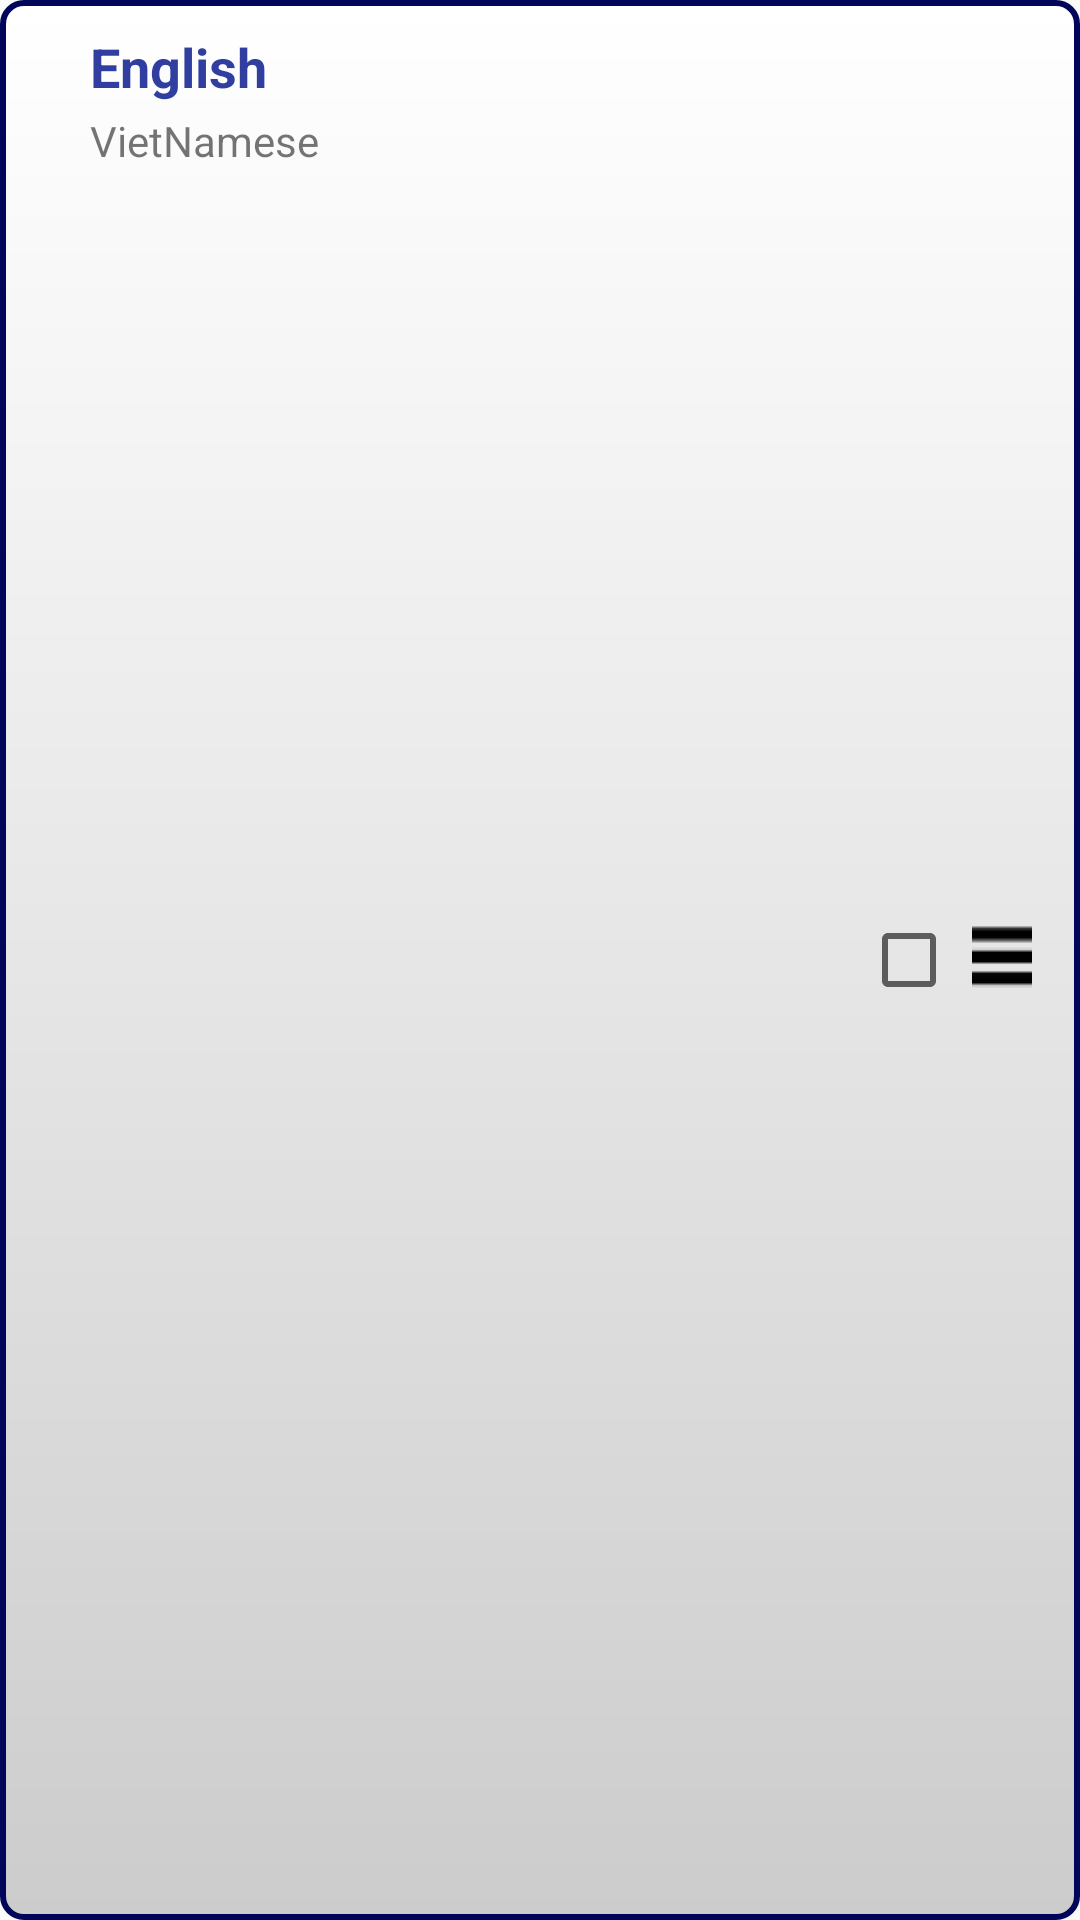

Where to tap for icons on this 1080*1920 app screen, as (x,y):
menu: (1002,956)
